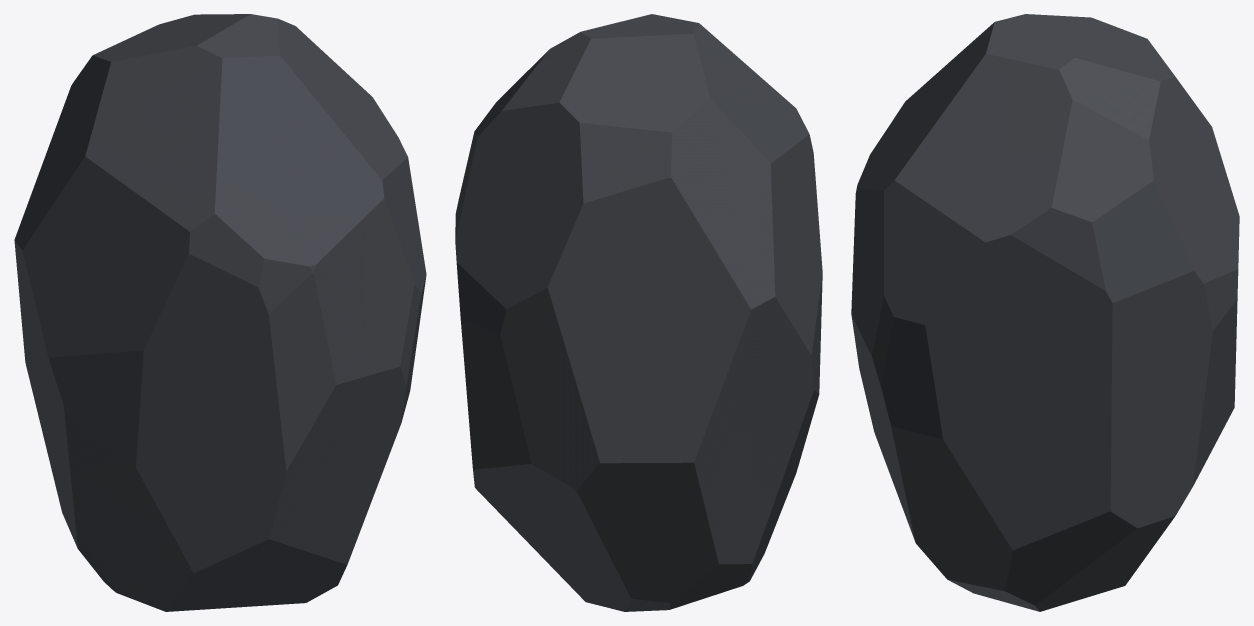
File: rock7.obj
3 renders of one model, left to right at view 1: azimuth 30°, elevation 25°; view 2: azimuth 150°, elevation 25°; view 3: azimuth 270°, elevation 25°, orthographic. The views are drawn at different scales.
Size of the model in its own units: 1.57 by 2.54 by 1.63.
Materials: 1 (1 with a texture image).
